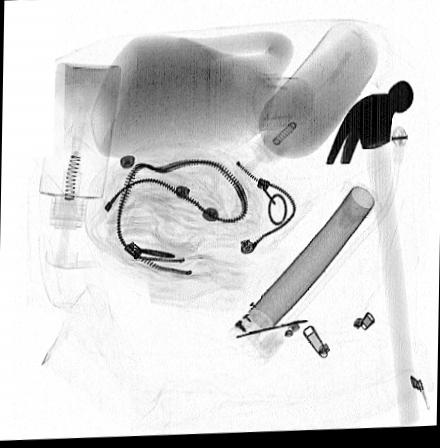Hammer: (324, 84, 418, 430)
